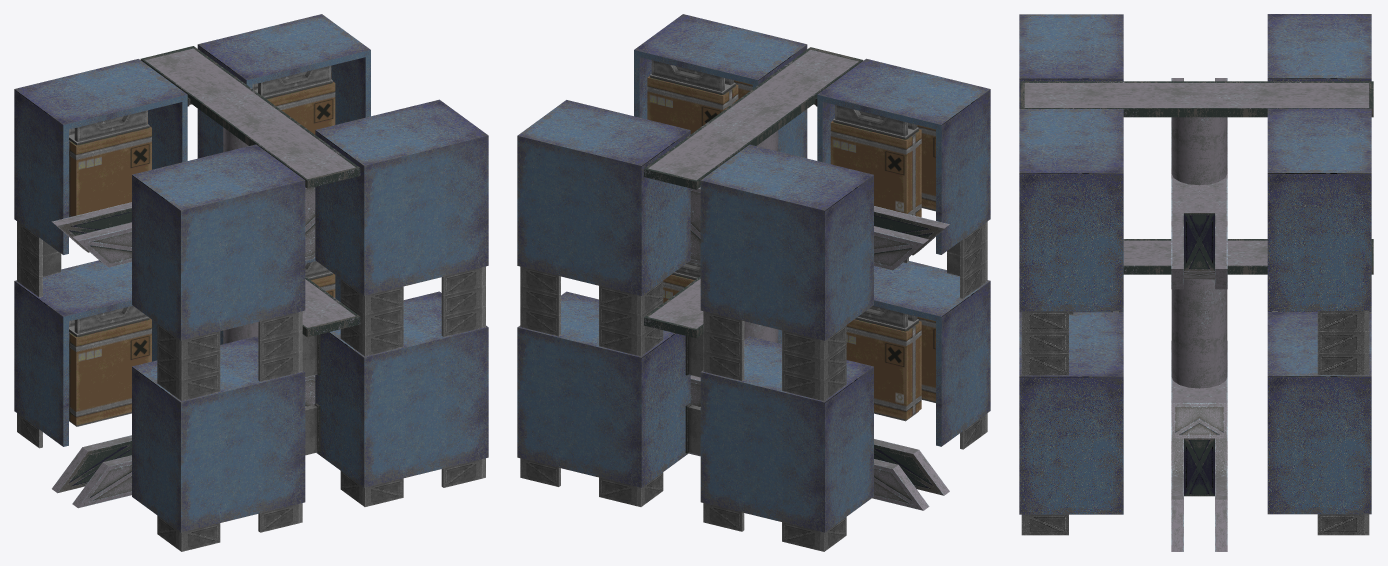
The model's file is SM_Cooler.glb.
3 renders of one model, left to right at view 1: azimuth 30°, elevation 25°; view 2: azimuth 150°, elevation 25°; view 3: azimuth 270°, elevation 25°, orthographic. The views are drawn at different scales.
Parts seen in each view (by area): view 1: coolershields, lightgreymetal, coolerbase, darkgreymetal; view 2: coolershields, lightgreymetal, coolerbase, darkgreymetal; view 3: coolershields, lightgreymetal, coolerbase, darkgreymetal.
Part boxes in pixels (x1,y1,x2,y2): coolershields: [14, 14, 488, 551]; lightgreymetal: [145, 48, 355, 343]; coolerbase: [52, 187, 315, 508]; darkgreymetal: [140, 46, 360, 337]; coolershields: [517, 14, 990, 551]; lightgreymetal: [648, 49, 858, 342]; coolerbase: [689, 187, 949, 510]; darkgreymetal: [644, 47, 863, 338]; coolershields: [1019, 14, 1371, 535]; lightgreymetal: [1024, 83, 1369, 388]; coolerbase: [1171, 78, 1227, 551]; darkgreymetal: [1020, 81, 1373, 274].
Bounding box in the file's own units: 28.2 × 25 × 22.11.
Materials: 4 (4 with a texture image).
